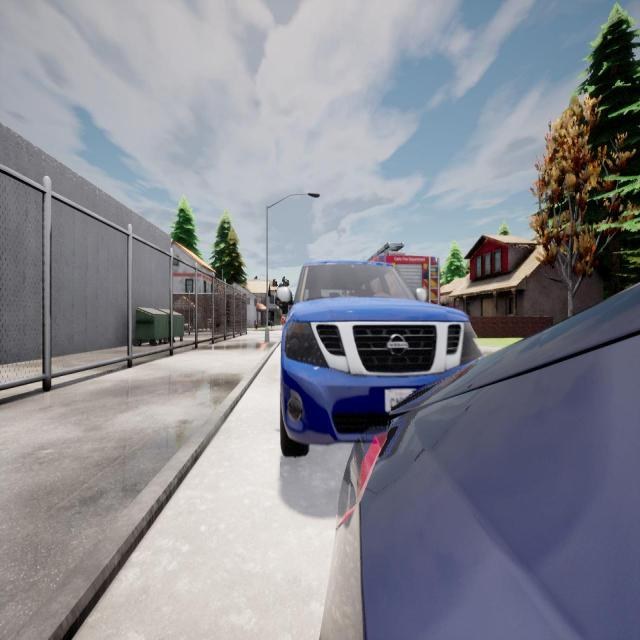Pedestrian: (282, 315, 284, 326)
Vehicle: (321, 285, 640, 640), (280, 262, 474, 456), (362, 243, 441, 306)
